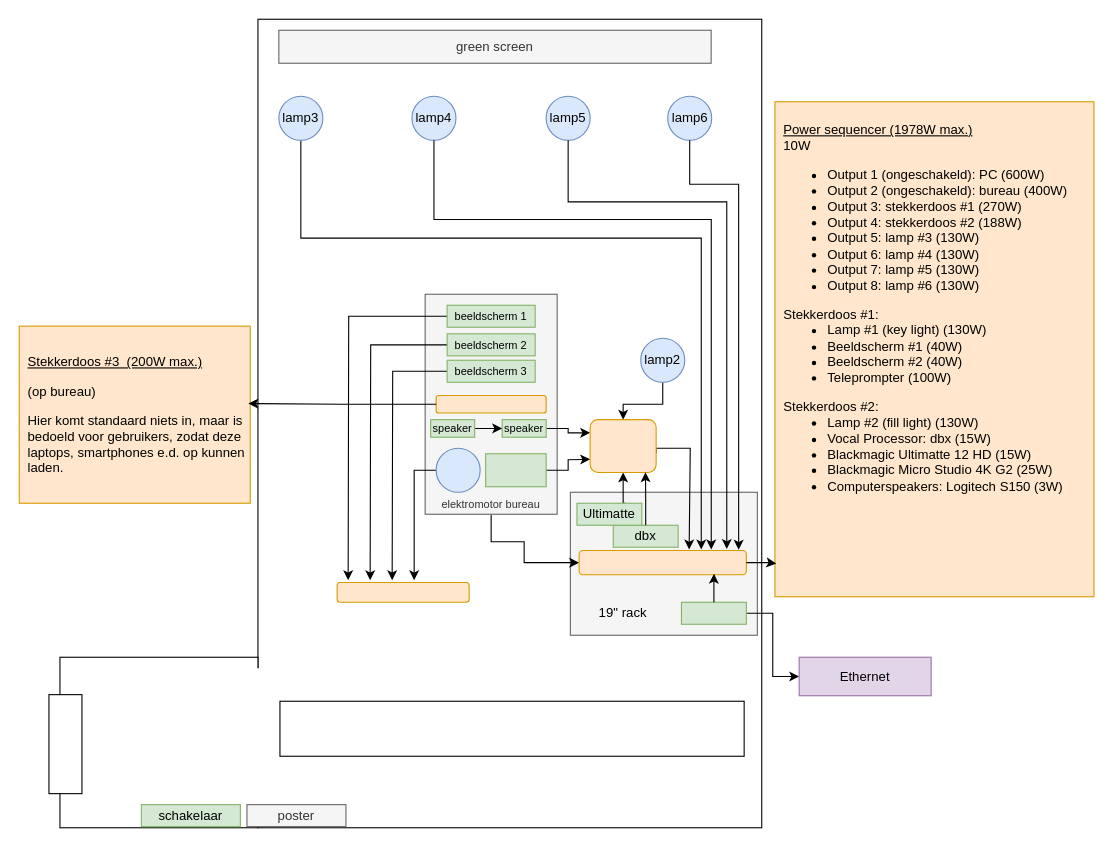
The diagram is 1113 pixels wide and 847 high, and some of its shapes have lost their labels. Here are the shapes that lost their labels. From the top down, the centre of each, then its label:
(x=490, y=403): stekkerdoos #3
(x=622, y=445): stekker doos #2
(x=457, y=469): lamp1
(x=515, y=470): camera
(x=662, y=562): power sequencer
(x=402, y=591): stekkerdoos #1
(x=713, y=612): PC
(x=65, y=744): deur
(x=511, y=728): Maximaal benodigd vermogen voor alle apparatuur in de ruimte = 2200W
